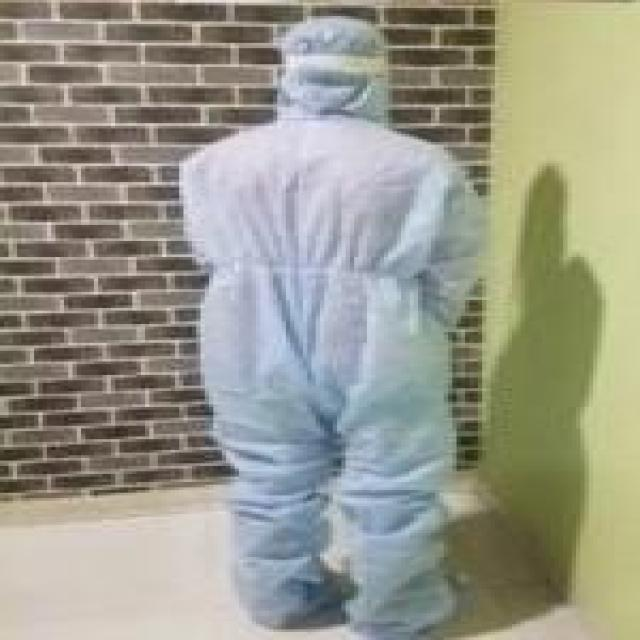Coverall: (179, 10, 520, 640)
